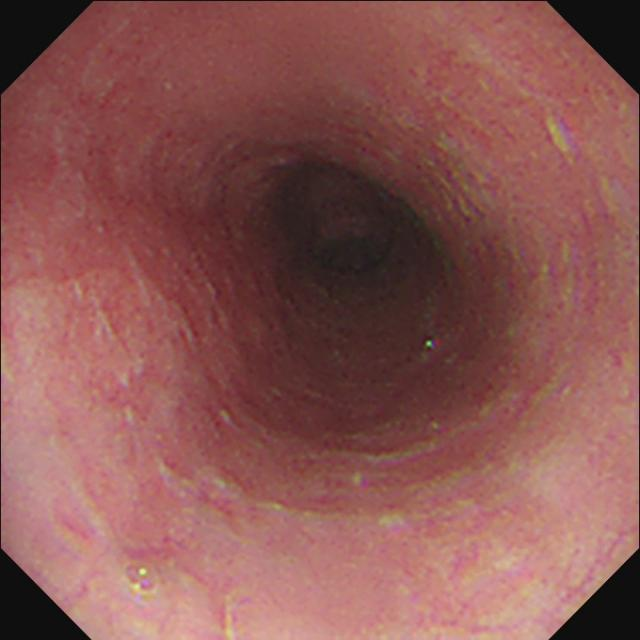E: (247, 152, 419, 280)
T: (125, 563, 159, 598)
